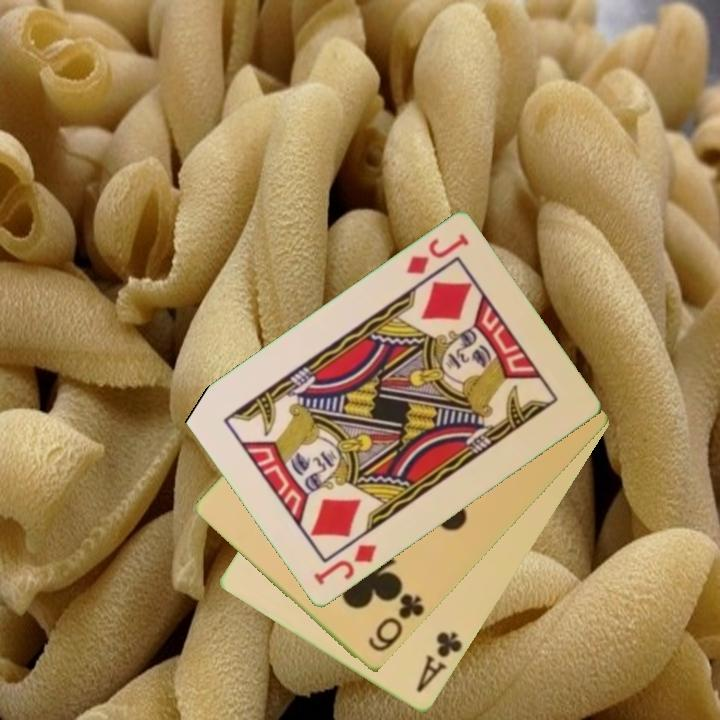6c: (364, 590, 428, 655)
Ac: (413, 628, 466, 696)
Jd: (402, 230, 472, 279), (309, 541, 380, 589)
